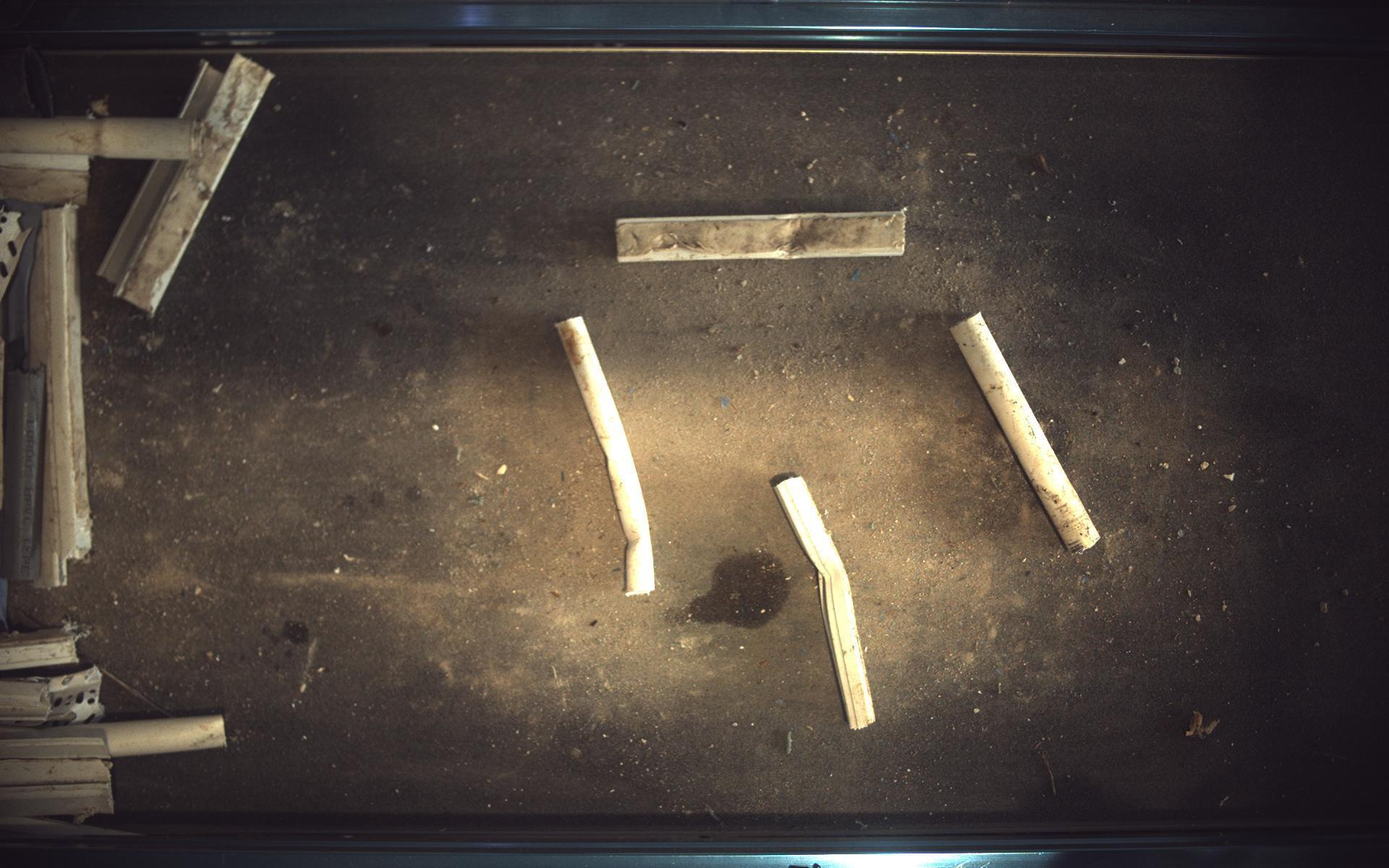pipes: (953, 312, 1102, 553), (557, 316, 656, 596)
plastic: (772, 472, 877, 731), (616, 208, 907, 262)
